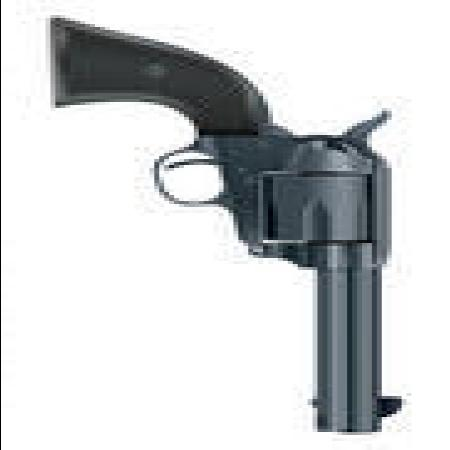Pistol: (55, 12, 410, 429)
